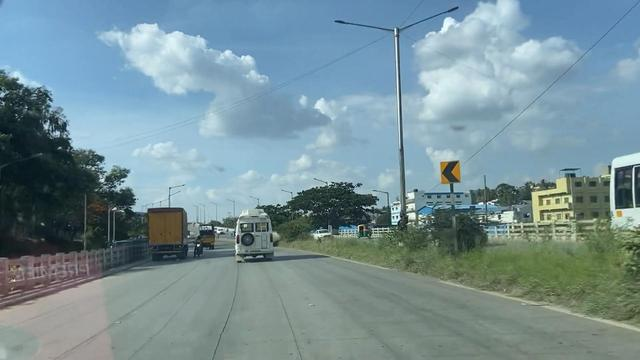HMV: (141, 200, 189, 256), (236, 213, 271, 260)
